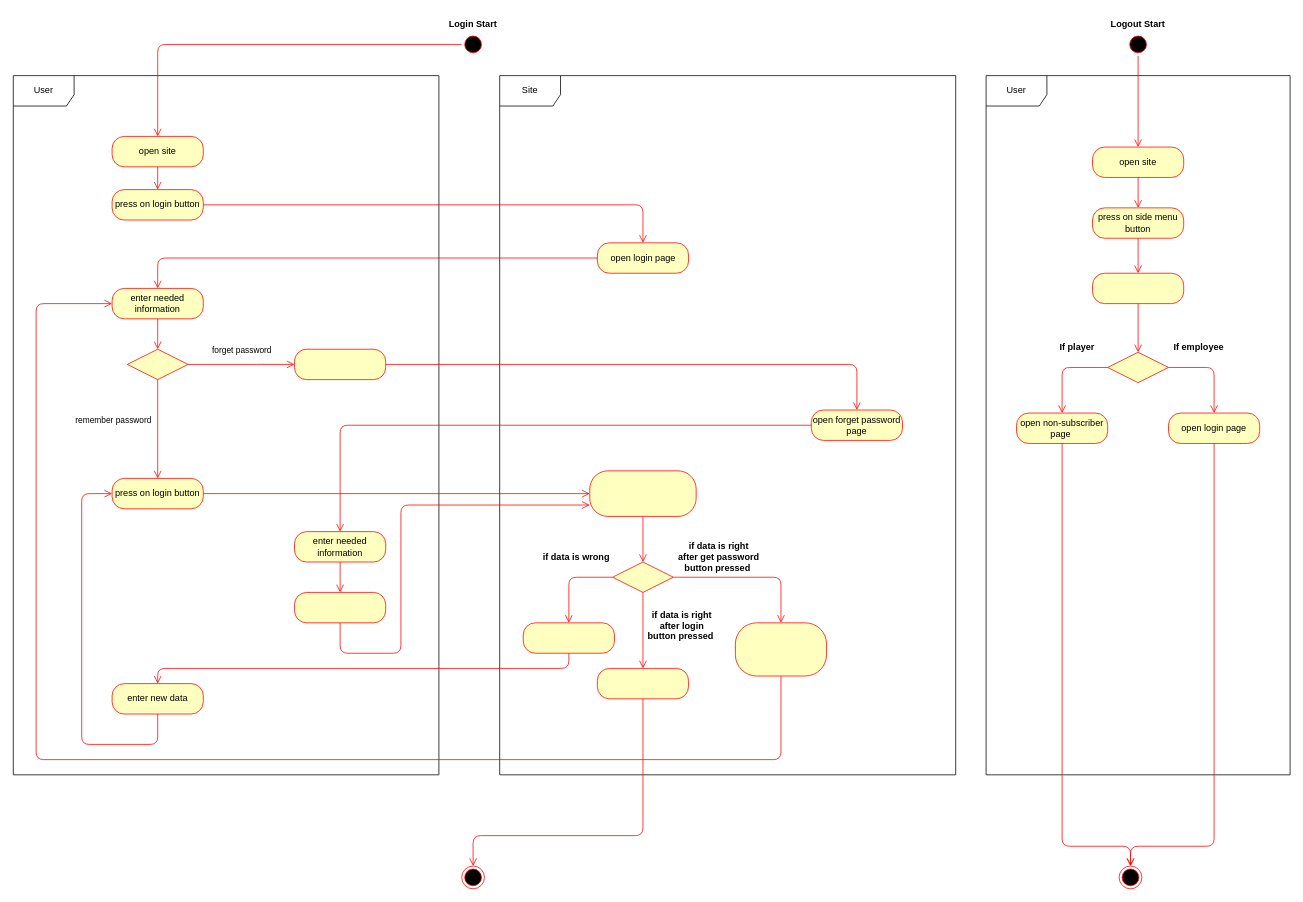
This 1303x902 diagram has some shape labels left out. Each missing label, with the box of its shape:
press on forget password button: (294, 348, 386, 380)
press on get password button: (294, 592, 386, 623)
press on logout button: (1092, 272, 1184, 304)
site open home page: (597, 668, 689, 699)
site send data to back-end and check if it right or not: (589, 470, 696, 516)
site view "date is wrong": (522, 622, 614, 653)
view password to user for 5 sec and move to login page: (735, 622, 827, 676)
